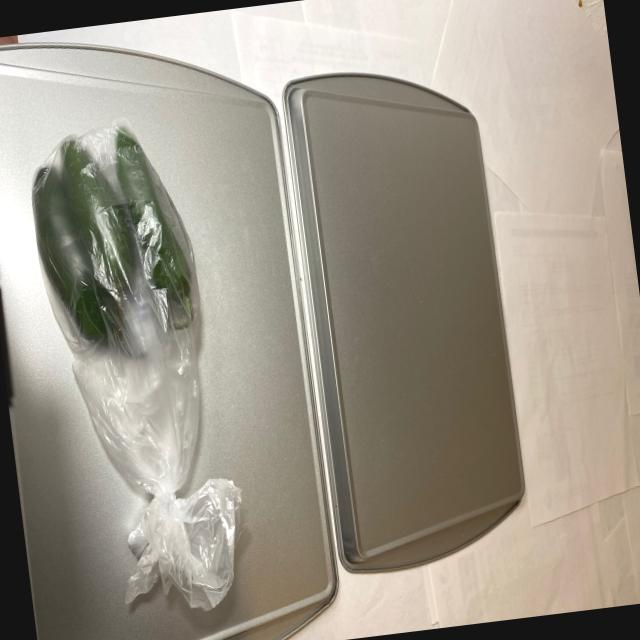chilli: (23, 107, 205, 380)
